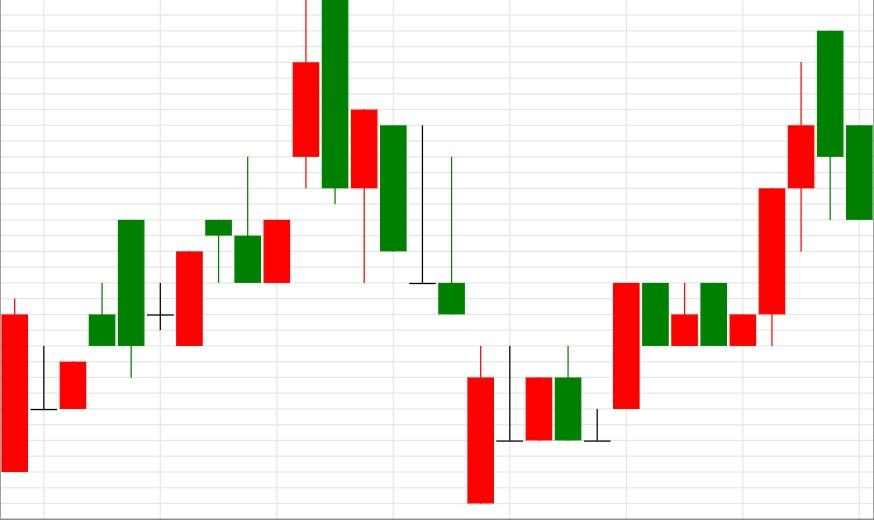bearish_engulfing_fall: (58, 0, 350, 409)
inverse_hammer_rise: (321, 0, 465, 316)
